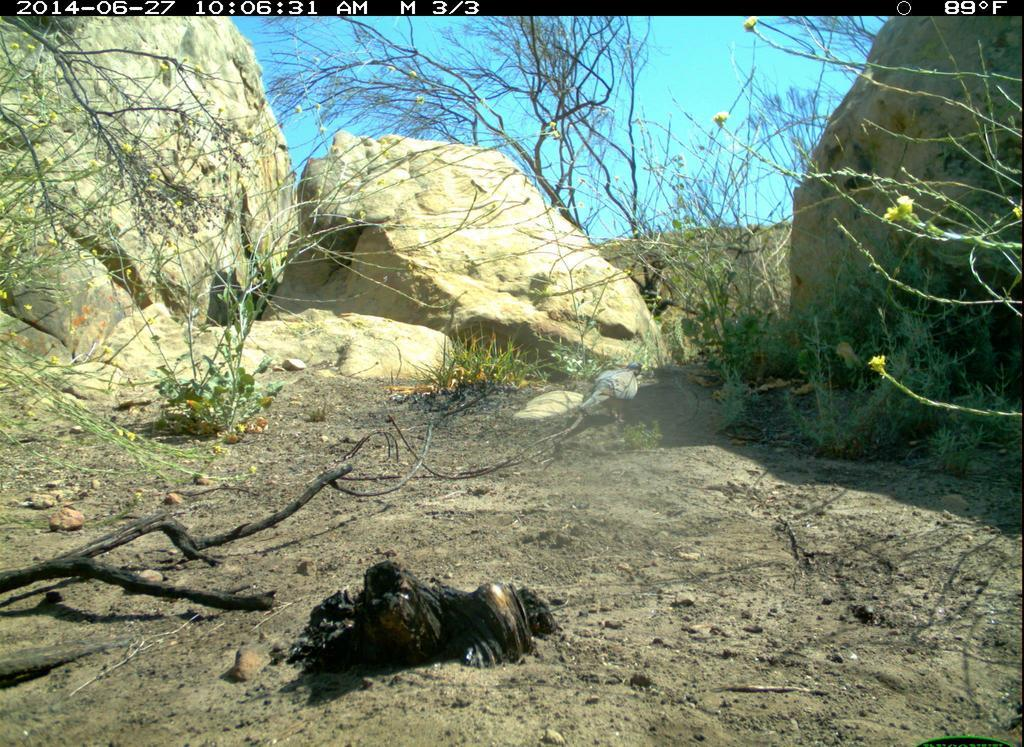bird: (575, 358, 647, 422)
